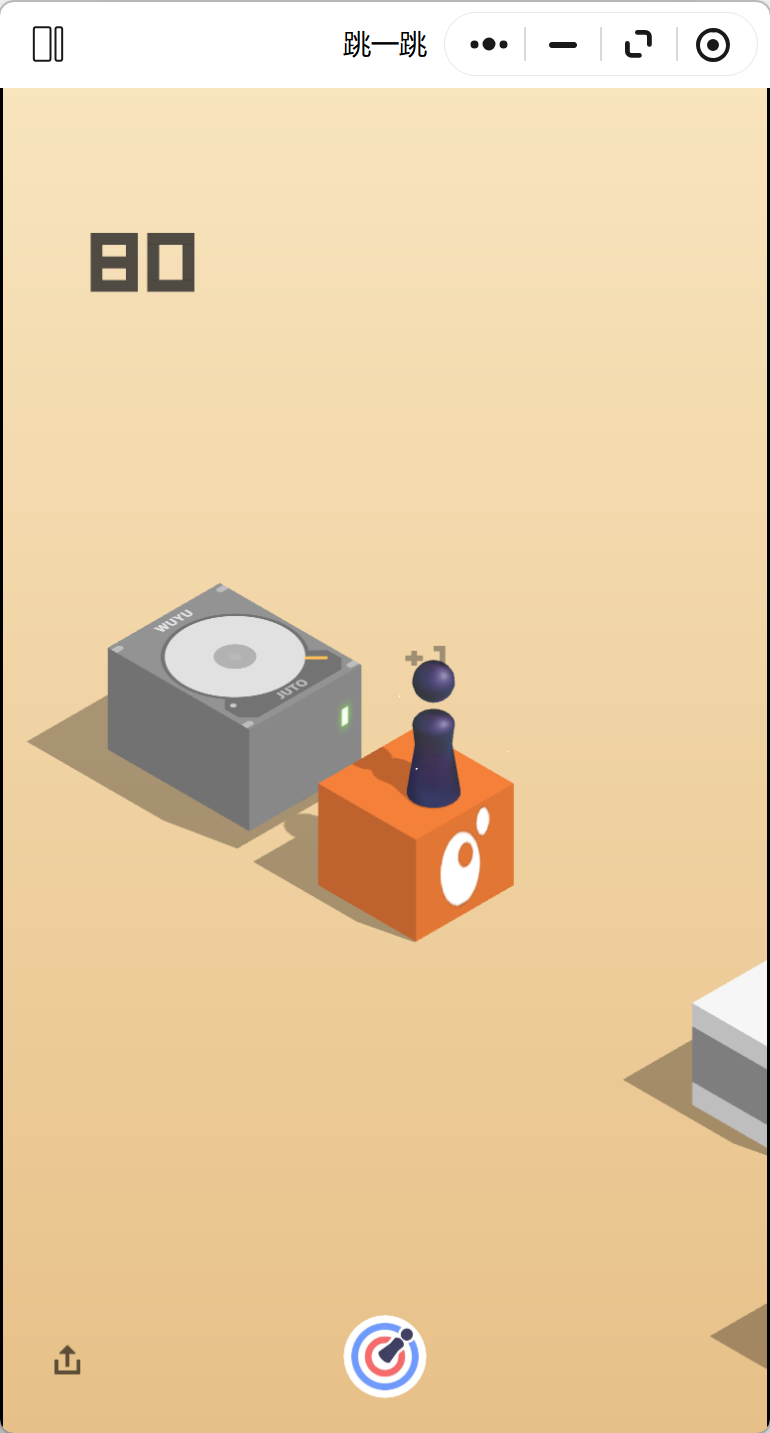piece: (408, 653, 463, 810)
platform: (106, 579, 364, 838)
